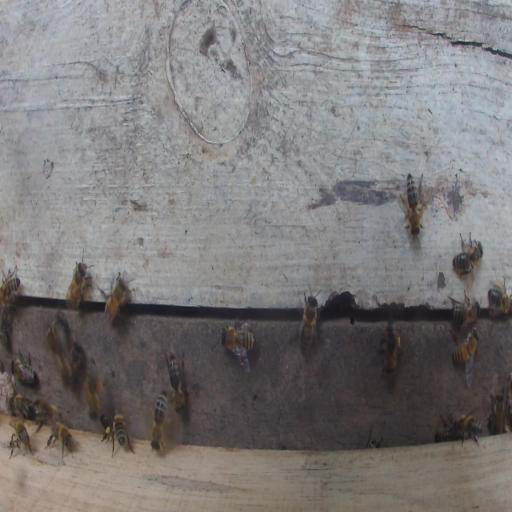bee: (398, 172, 430, 236), (219, 321, 258, 372), (299, 286, 321, 357), (102, 270, 130, 325), (452, 231, 483, 279), (66, 249, 90, 309), (451, 326, 479, 376), (84, 356, 103, 419), (10, 348, 37, 386), (47, 421, 74, 459), (150, 393, 167, 453), (452, 294, 480, 330), (8, 419, 33, 458), (454, 413, 482, 447), (487, 276, 511, 315), (169, 353, 184, 415), (32, 398, 61, 429), (385, 318, 400, 374), (47, 313, 68, 352), (1, 268, 21, 306), (435, 412, 459, 443), (9, 392, 35, 418), (70, 342, 84, 382), (491, 394, 504, 435), (365, 425, 383, 448), (113, 414, 125, 445), (100, 414, 113, 438), (0, 325, 9, 349)
